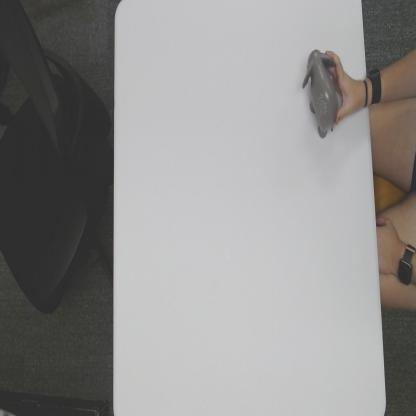Elephant: (301, 47, 338, 138)
Hand: (325, 48, 366, 128)
